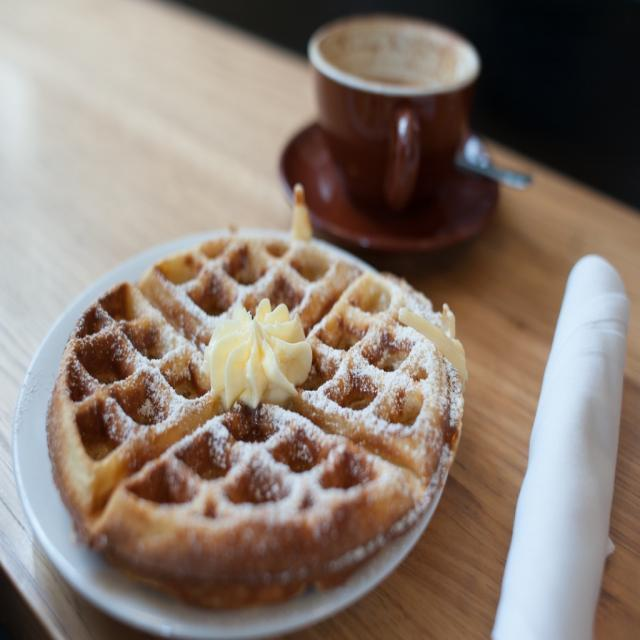Waffle: (44, 232, 469, 618)
